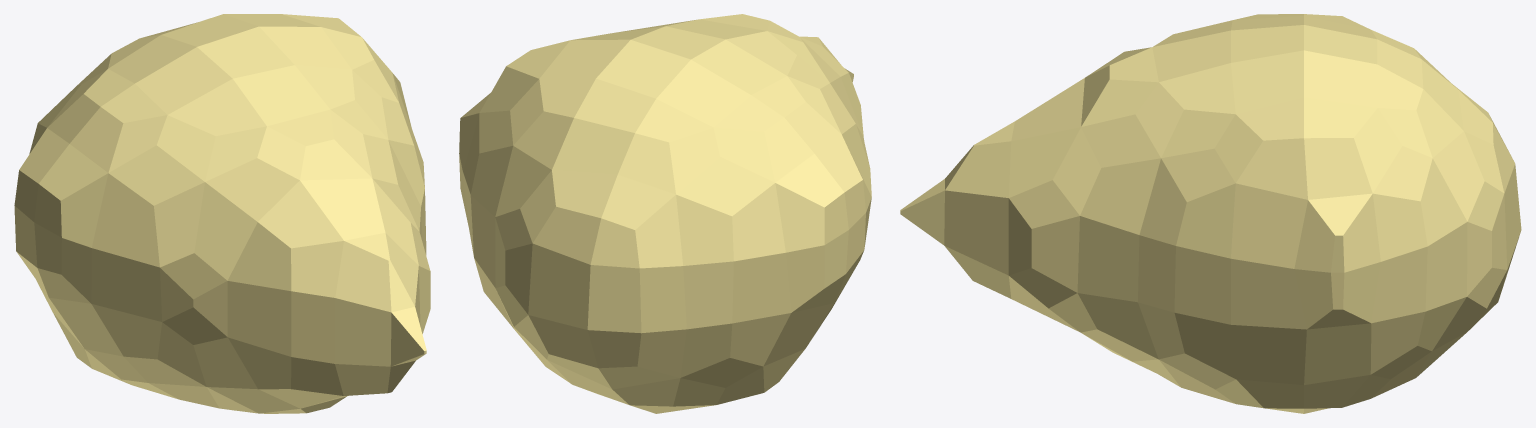
File: big-muzzle-flare.glb
The picture shows the model from 3 angles, left to right: view 1: azimuth 30°, elevation 25°; view 2: azimuth 150°, elevation 25°; view 3: azimuth 270°, elevation 25°; orthographic projection. The views are drawn at different scales.
Parts seen in each view (by area): view 1: Cylinder; view 2: Cylinder; view 3: Cylinder.
Boxes of the visible parts, x1,y1,x2,y2 form: Cylinder: (14, 14, 430, 413); Cylinder: (459, 14, 871, 413); Cylinder: (900, 14, 1521, 413).
Size of the model in its own units: 0.4497 by 0.4013 by 0.6204.
